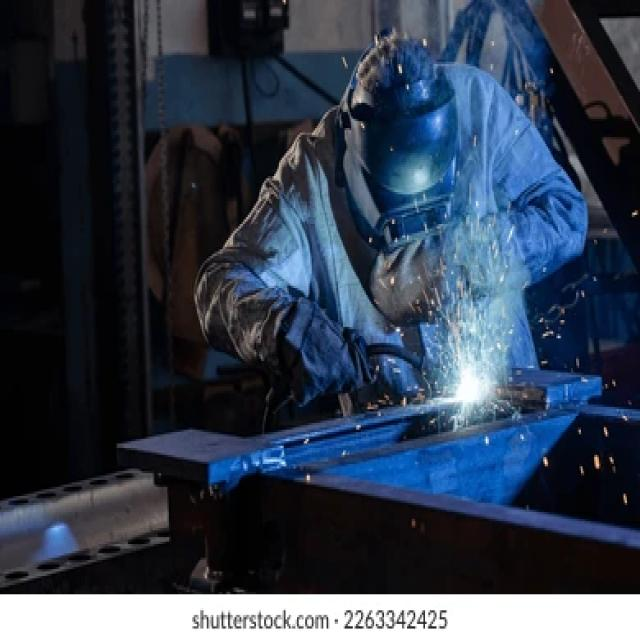welding: (456, 367, 488, 404)
